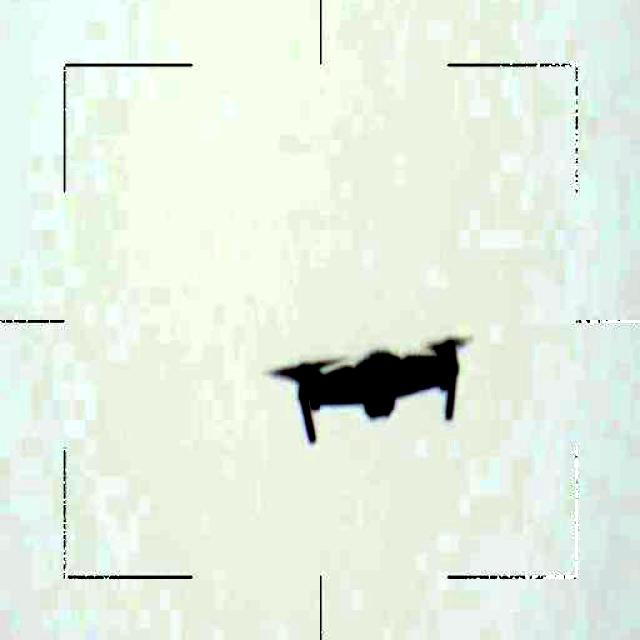bird: (261, 310, 488, 436)
